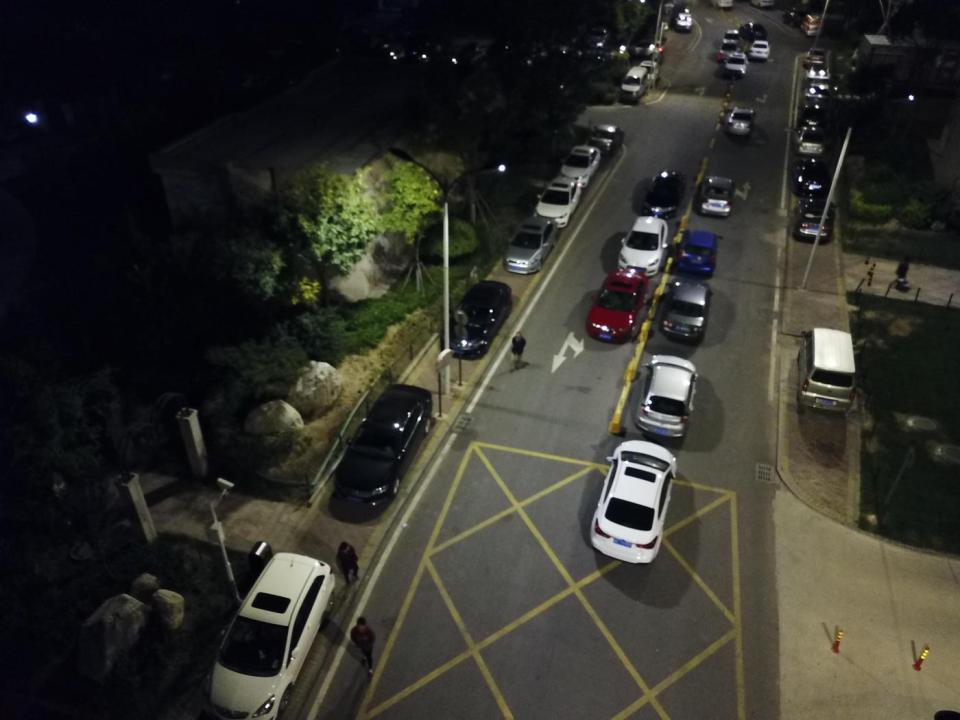car: (199, 550, 333, 720), (334, 381, 431, 503), (590, 439, 678, 564), (635, 351, 701, 440), (443, 280, 512, 361), (584, 264, 648, 343), (613, 212, 669, 280), (502, 212, 557, 276), (664, 276, 712, 344), (675, 224, 725, 279), (536, 176, 584, 228), (642, 166, 685, 218), (794, 195, 838, 245), (560, 143, 602, 189), (698, 170, 735, 217), (791, 156, 831, 198), (586, 120, 623, 154), (618, 36, 664, 59), (794, 124, 827, 156), (726, 106, 757, 138), (806, 63, 831, 99), (723, 51, 751, 77), (739, 17, 769, 41), (585, 23, 611, 50), (799, 97, 825, 122), (783, 4, 810, 28), (638, 57, 660, 84), (717, 36, 743, 58), (748, 38, 772, 60), (675, 10, 696, 33), (806, 44, 826, 67), (718, 28, 741, 45)
van: (795, 326, 858, 414), (619, 65, 650, 99)
